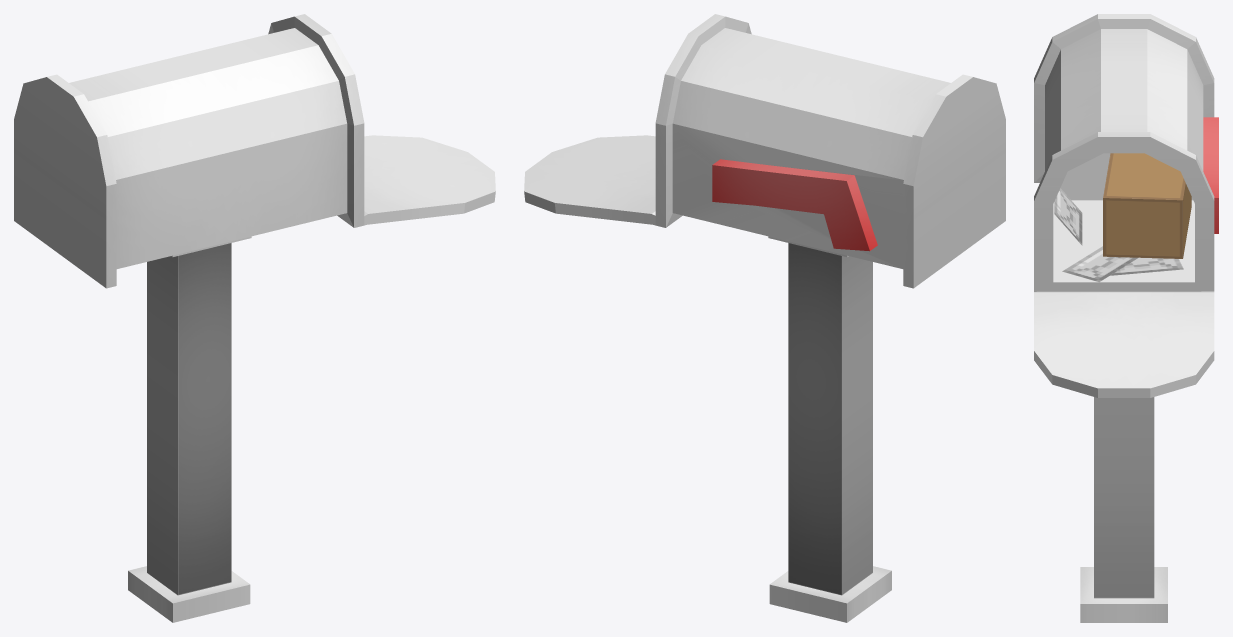
Rendered from mailbox2.fbx.
The picture shows the model from 3 angles, left to right: view 1: azimuth 30°, elevation 25°; view 2: azimuth 150°, elevation 25°; view 3: azimuth 270°, elevation 25°; orthographic projection. The views are drawn at different scales.
Parts seen in each view (by area): view 1: Mailbox; view 2: Mailbox; view 3: Mailbox, Kocka.013, Plocha.003, Plocha.001, Plocha.002.
Part boxes in pixels (left/top/right/bottom): Mailbox: left=14, top=14, right=495, bottom=622; Mailbox: left=524, top=14, right=1005, bottom=622; Mailbox: left=1034, top=14, right=1218, bottom=622; Kocka.013: left=1103, top=153, right=1191, bottom=258; Plocha.003: left=1062, top=246, right=1138, bottom=282; Plocha.001: left=1054, top=188, right=1082, bottom=245; Plocha.002: left=1110, top=257, right=1183, bottom=275.
Size of the model in its own units: 253 by 311 by 98.4.
